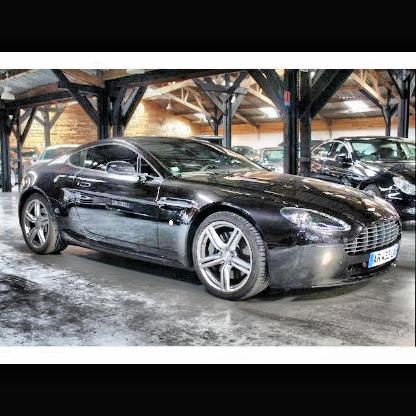Aston Martin V8 Vantage Coupe 2012: (16, 133, 410, 320)
